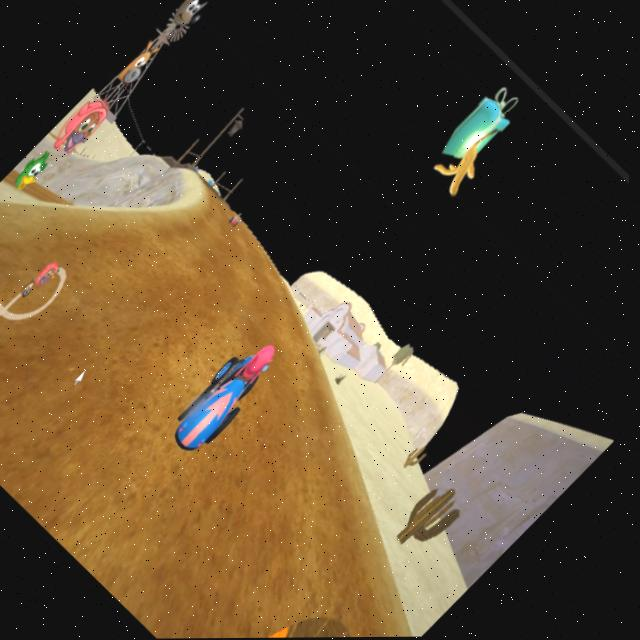enemy_kart: (225, 206, 250, 230)
off_track: (313, 364, 532, 567)
player_kart: (132, 314, 311, 491)
track: (25, 237, 240, 444), (166, 203, 320, 346)
